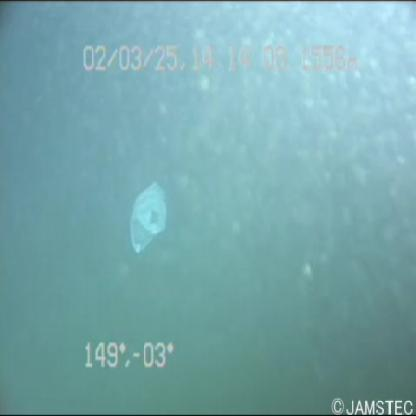Rác: (121, 172, 174, 261)
